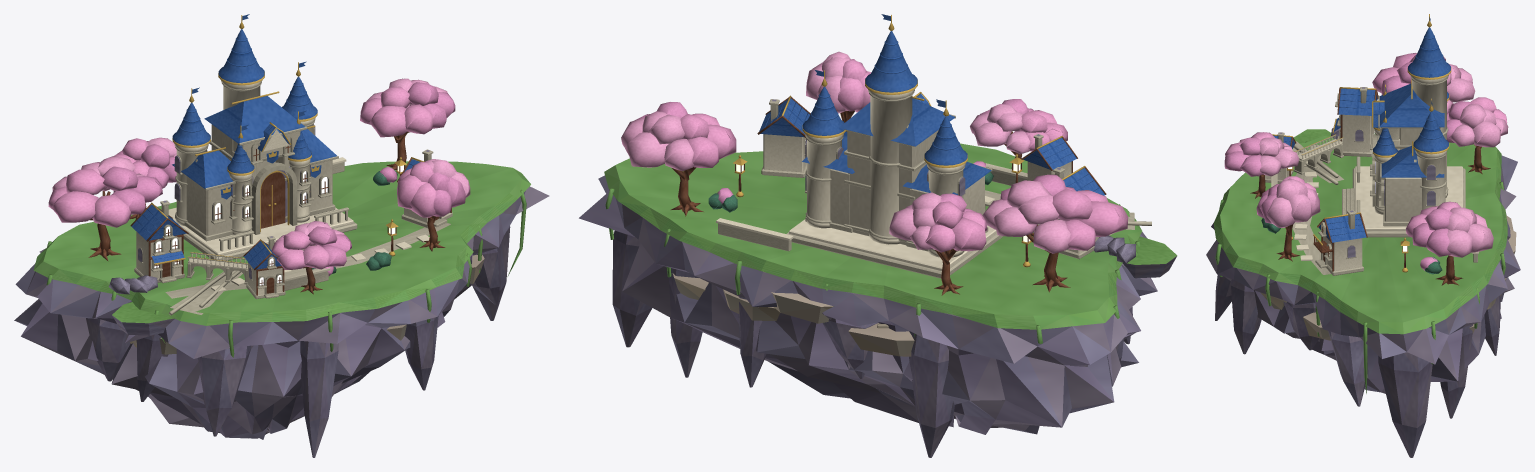
Rendered from royal-island-left-v2.glb.
3 views of the same model, side by side, from view 1: azimuth 30°, elevation 25°; view 2: azimuth 150°, elevation 25°; view 3: azimuth 270°, elevation 25° (orthographic). The views are drawn at different scales.
Visible parts, largest first — view 1: royal-island-left-v2; view 2: royal-island-left-v2; view 3: royal-island-left-v2.
Boxes of the visible parts, x1,y1,x2,y2 form: royal-island-left-v2: (14,14,549,457); royal-island-left-v2: (579,14,1177,457); royal-island-left-v2: (1206,14,1520,457).
Bounding box in the file's own units: 20.28 × 15.2 × 12.05.
Materials: 10 (10 with a texture image).
